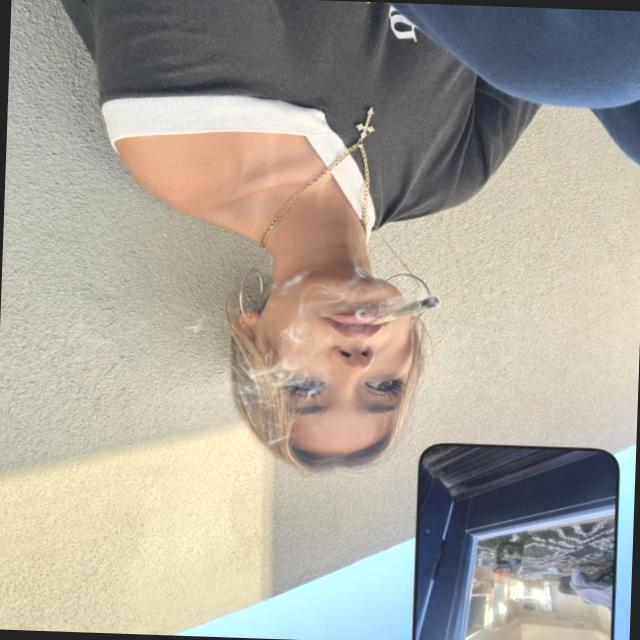smoke: (361, 284, 446, 334)
